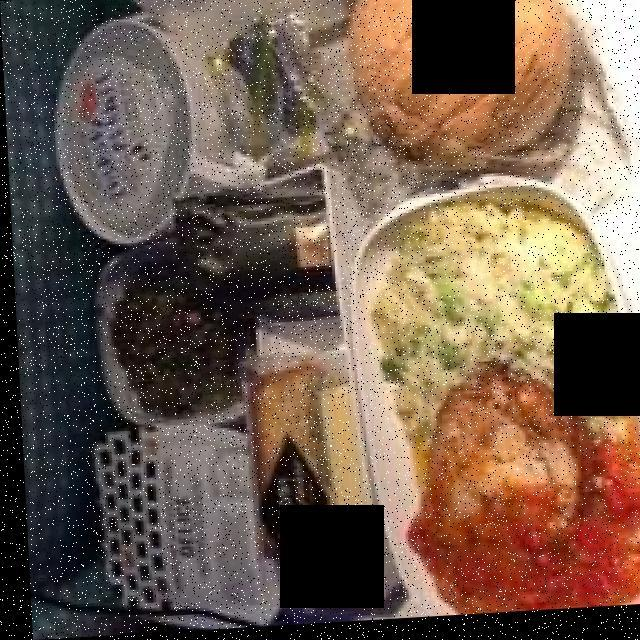bell-pepper: (399, 435, 640, 614)
bread: (339, 0, 590, 180)
cheddar: (304, 378, 380, 586)
chicken-breast: (411, 363, 582, 579)
lentils: (95, 238, 232, 420)
pasta: (361, 207, 620, 463)
peas: (431, 263, 622, 424), (497, 270, 617, 357)
rusk-wholemeal: (238, 363, 329, 569)
tomato-sauce: (408, 478, 631, 610)
